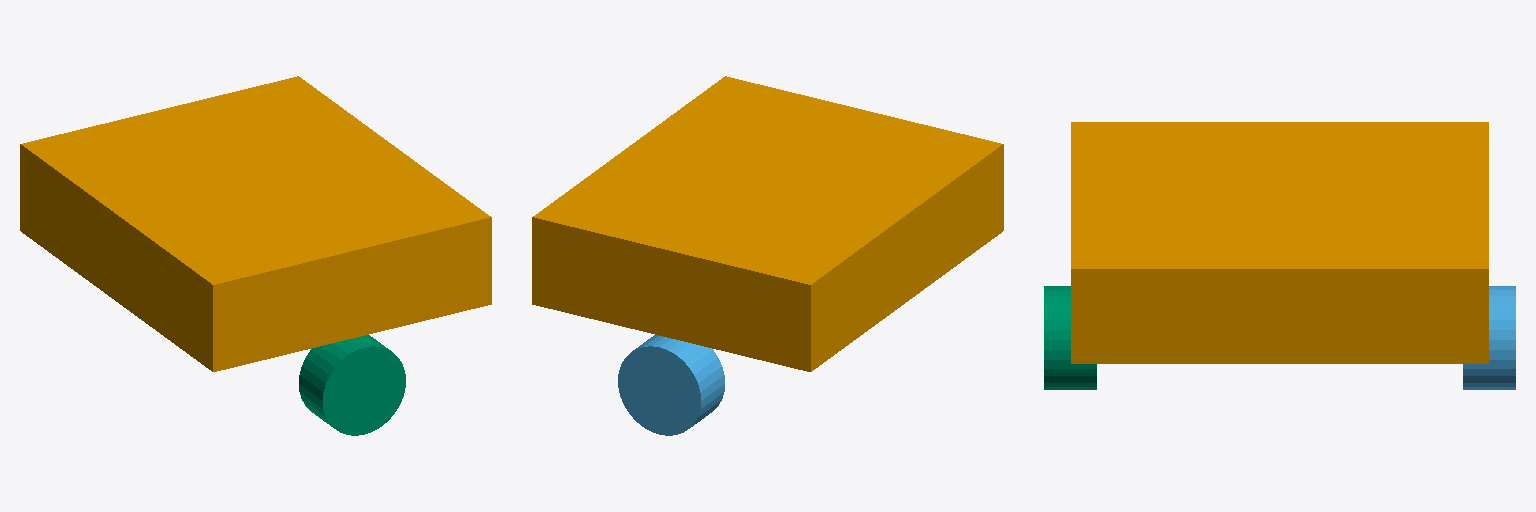
URDF robot description (demo_bot):
<?xml version="1.0" ?>

<robot name="demo_bot">
<!-- Everything goes INSIDE <robot> </robot> -->

<material name="blue">
  <color rgba="0.2 0.2 0.7 1"/>
</material>

<!-- BASE_LINK -->
<link name="base_link">
  <visual>
    <!-- Distances in meters, orientation in radians -->
    <origin rpy="0 0 0" xyz="0 0 0.03"/>
    <geometry>
      <box size="0.2 0.24 0.06"/>
    </geometry>
  </visual>

  <collision>
    <!-- Distances in meters, orientation in radians -->
    <origin rpy="0 0 0" xyz="0 0 0.03"/>
    <geometry>
      <box size="0.2 0.24 0.06"/>
    </geometry>
  </collision>
  <material name="blue"/>
</link>

<!-- LEFT_WHEEL -->
<joint name="left_wheel_joint" type="continuous">
  <parent link="base_link"/>
  <child link="left_wheel"/>
  <origin rpy="-1.5708 0 0" xyz="0 0.12 -0.03"/>
  <axis xyz="0 0 1"/>
</joint>


  <link name="left_wheel">
    <visual>
      <origin rpy="0 0 0" xyz="0 0 0"/>
      <geometry>
        <cylinder length="0.03" radius="0.03"/>
      </geometry>
    </visual>

    <collision>
      <origin rpy="0 0 0" xyz="0 0 0"/>
      <geometry>
        <cylinder length="0.03" radius="0.03"/>
      </geometry>
    </collision>
  </link>

  <!-- Right Wheel -->
  <joint name="right_wheel_joint" type="continuous">
    <parent link="base_link"/>
    <child link="right_wheel"/>
    <origin rpy="1.5707963267948966 0 0" xyz="0 -0.12 -0.03"/>
    <axis xyz="0 0 -1"/>
  </joint>

  <link name="right_wheel">
    <visual>
      <origin rpy="0 0 0" xyz="0 0 0"/>
      <geometry>
        <cylinder length="0.03" radius="0.03"/>
      </geometry>
    </visual>

    <collision>
      <origin rpy="0 0 0" xyz="0 0 0"/>
      <geometry>
        <cylinder length="0.03" radius="0.03"/>
      </geometry>
    </collision>
  </link>

</robot>

--- Facts derived from the render (not from the file) ---
3 views of the same robot in one strip: view 1: azimuth 30°, elevation 25°; view 2: azimuth 150°, elevation 25°; view 3: azimuth 270°, elevation 25° (orthographic).
Model demo_bot with 3 links and 2 joints (2 continuous), rooted at base_link, posed all joints at 0.
Links seen in each view (by area): view 1: base_link, right_wheel; view 2: base_link, left_wheel; view 3: base_link, left_wheel, right_wheel.
Boxes of the visible links, box(x1,y1,x2,y2) form: base_link: box(20, 76, 491, 371); right_wheel: box(299, 335, 405, 435); base_link: box(532, 76, 1003, 371); left_wheel: box(618, 335, 724, 435); base_link: box(1071, 122, 1488, 363); left_wheel: box(1463, 286, 1515, 389); right_wheel: box(1044, 286, 1096, 389).
Size in the robot's own frame: 0.2 by 0.27 by 0.12 metres.
Geometry: primitives only (box / cylinder / sphere), no mesh files.
